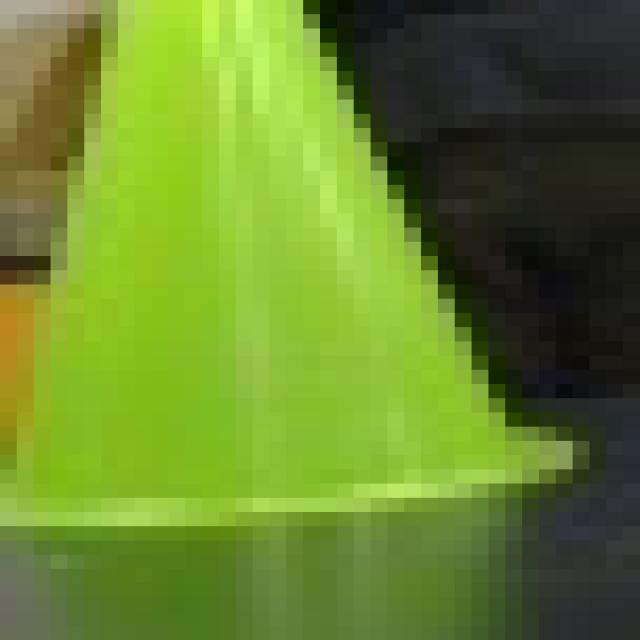cono: (0, 0, 589, 626)
